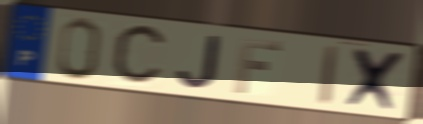0: (56, 15, 103, 83)
C: (109, 22, 170, 89)
F: (232, 36, 285, 96)
I: (317, 43, 341, 108)
J: (175, 33, 223, 91)
X: (342, 46, 410, 115)
